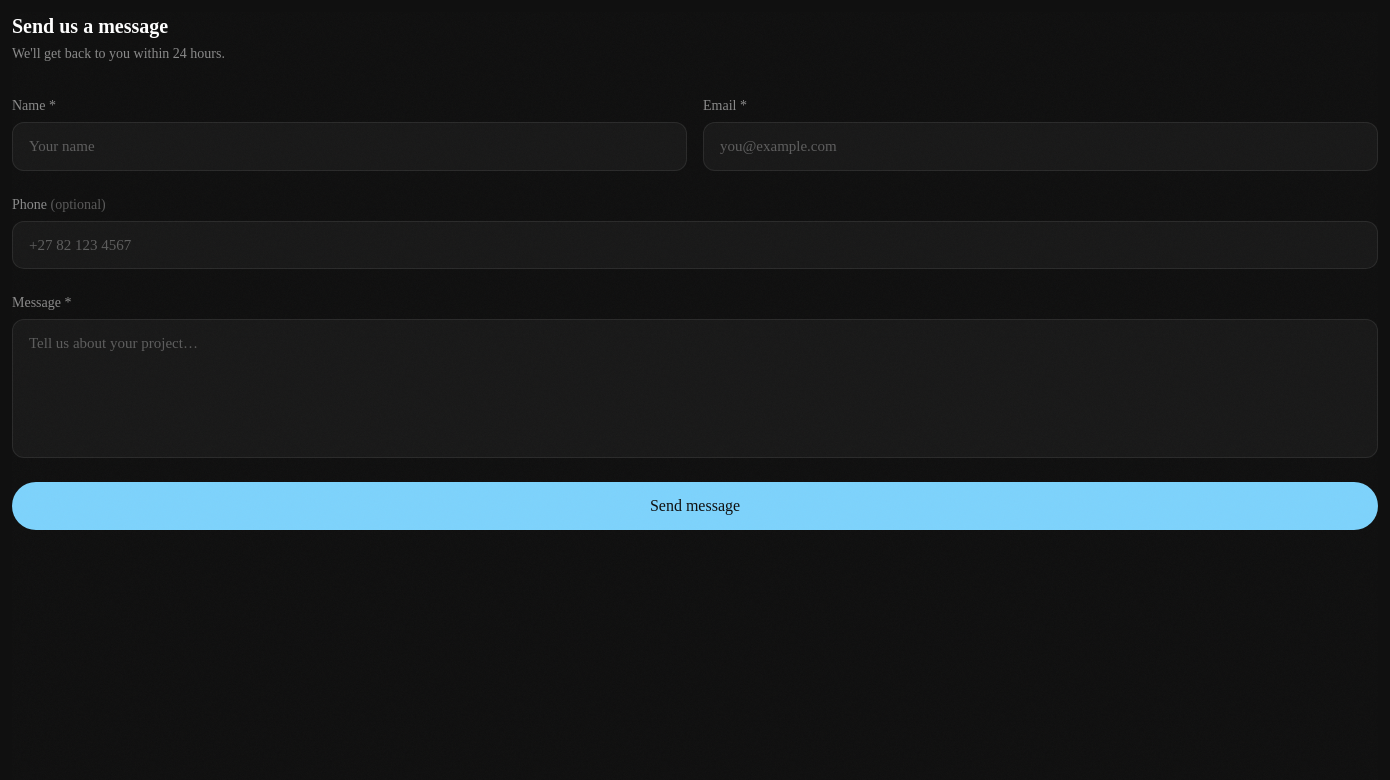
it: ContactForm › shows error banner with dark theme styling on network failure
Type "Jane Doe" into the field labelled "Name *" at (350, 146), box [12,122,687,170]
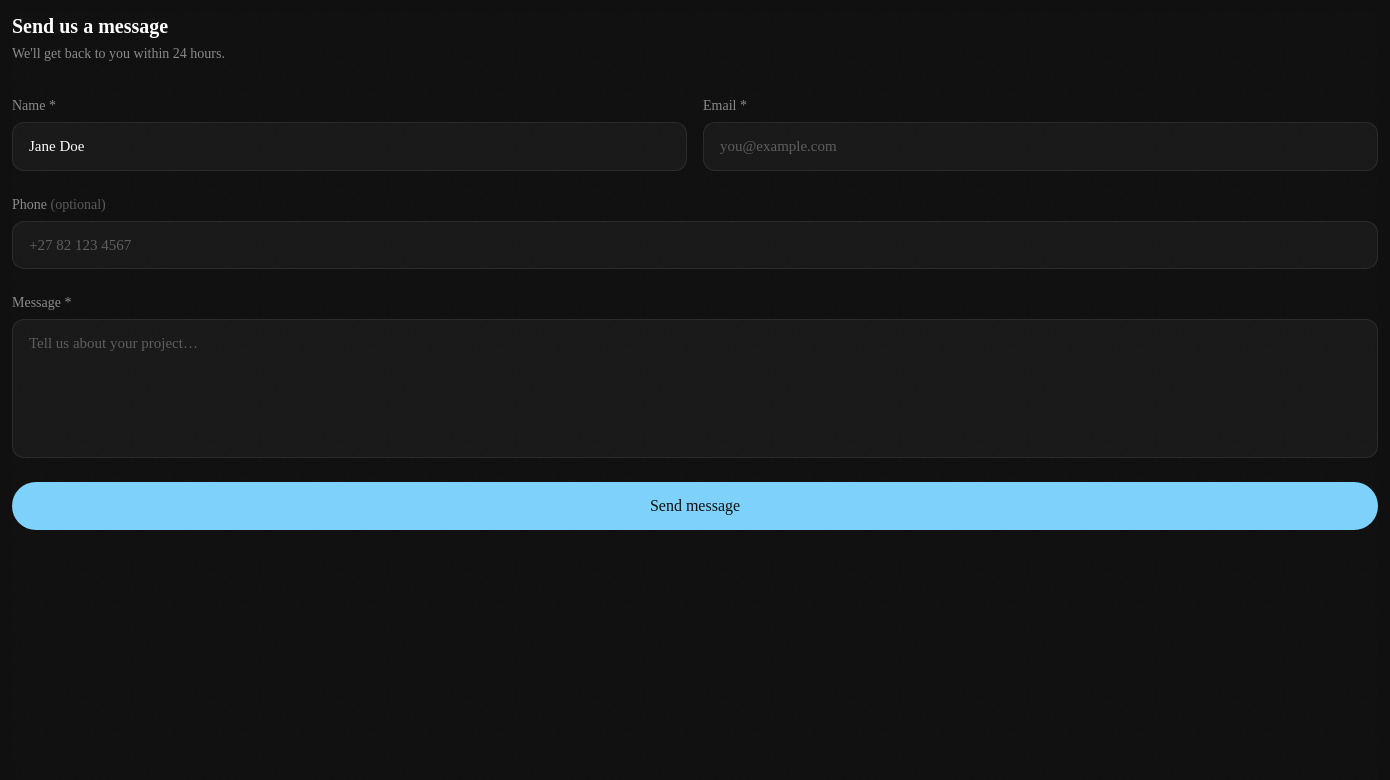
Type "jane@example.com" into the field labelled "Email *" at (1040, 146), box [703,122,1378,170]
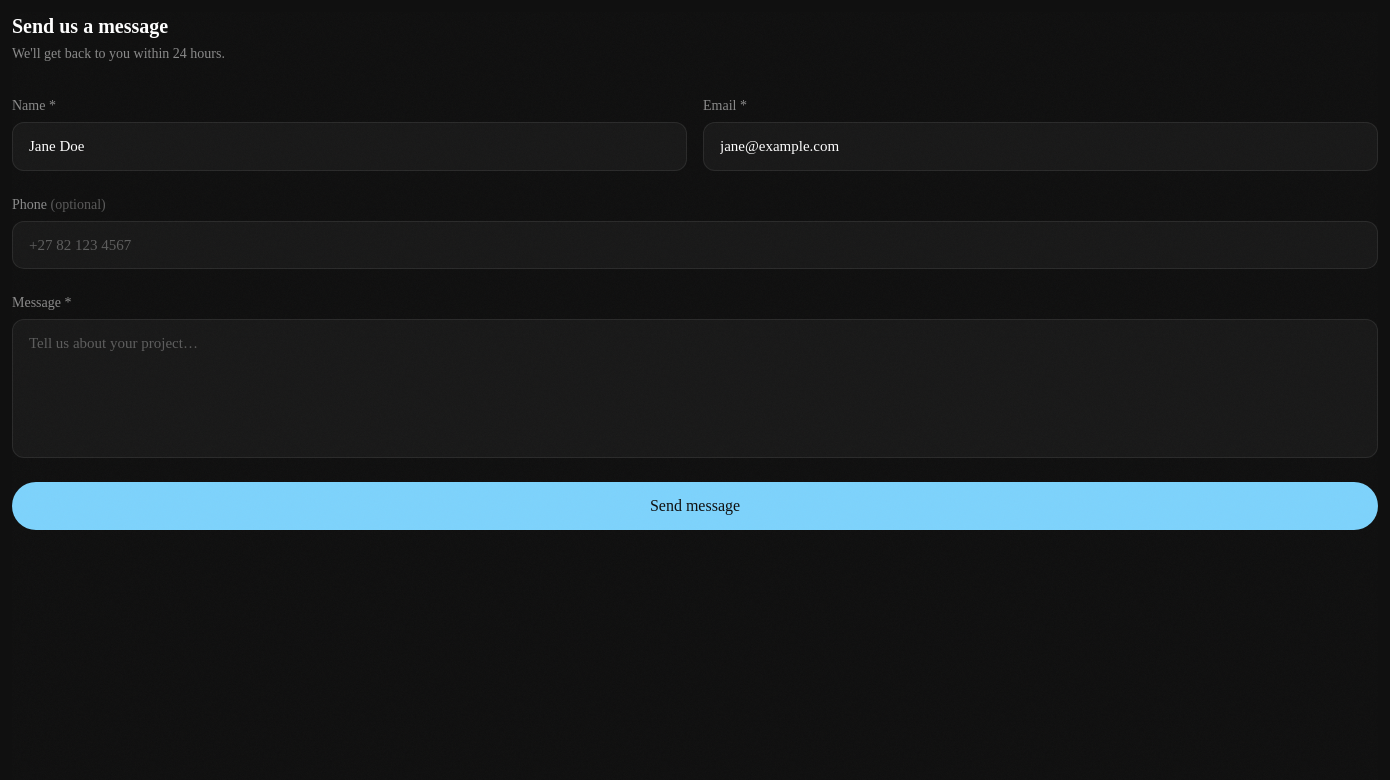
Type "Hello there" into the text box labelled "Message *" at (695, 388), box [12,319,1378,458]
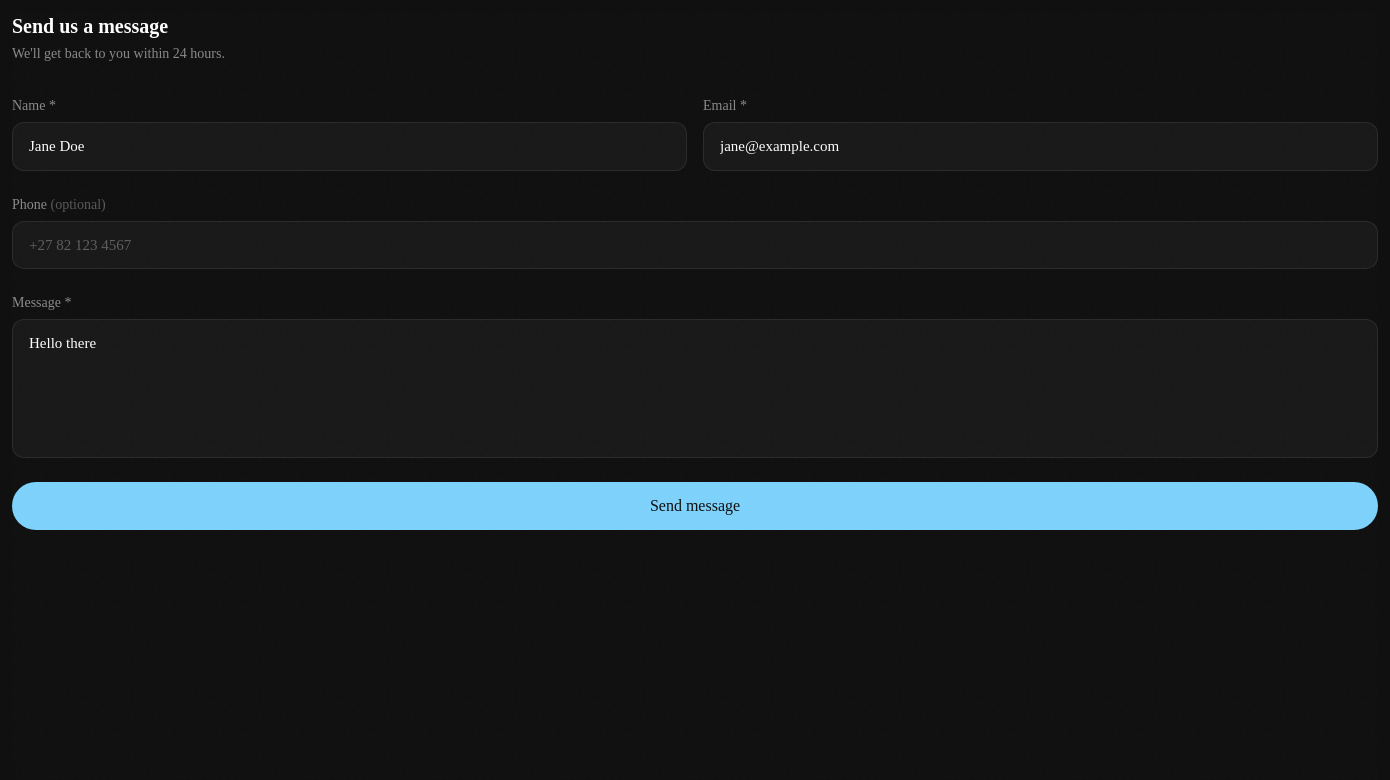
Click the button "Send message" at (695, 506), box [12,482,1378,530]
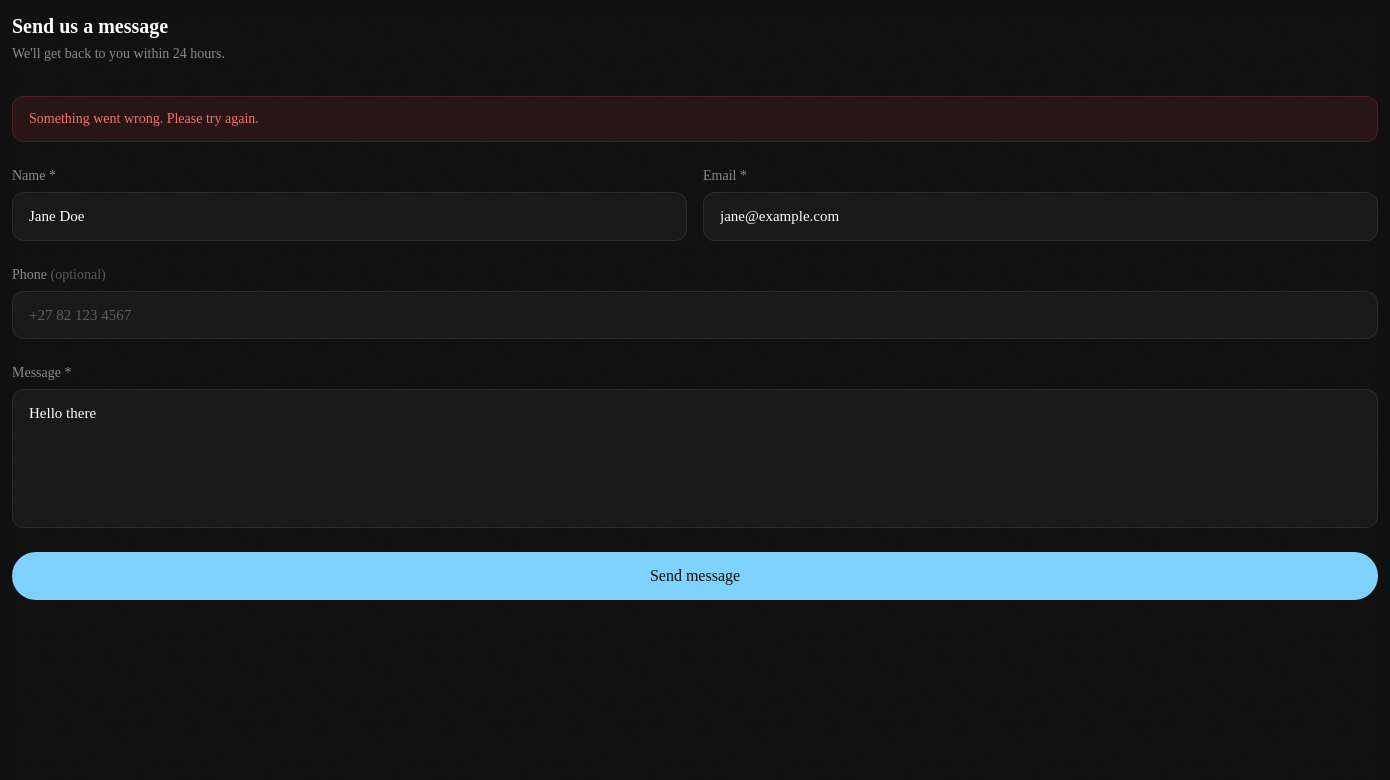
Now the message shows "Something went wrong", box [29,111,259,126]
